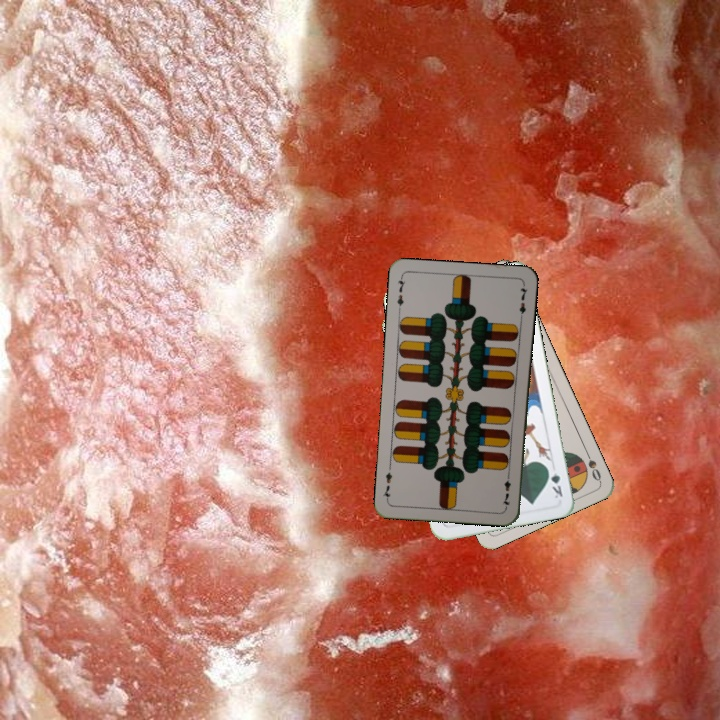E7: (393, 273, 408, 314), (499, 469, 513, 510)
GK: (543, 463, 565, 501)
SO: (581, 445, 604, 484)
